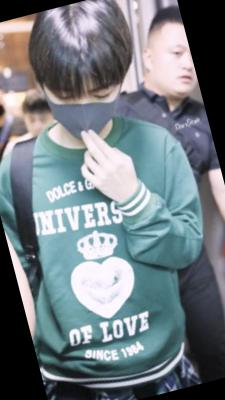with_mask: (43, 71, 131, 149)
without_mask: (150, 36, 201, 101), (24, 107, 59, 141)
